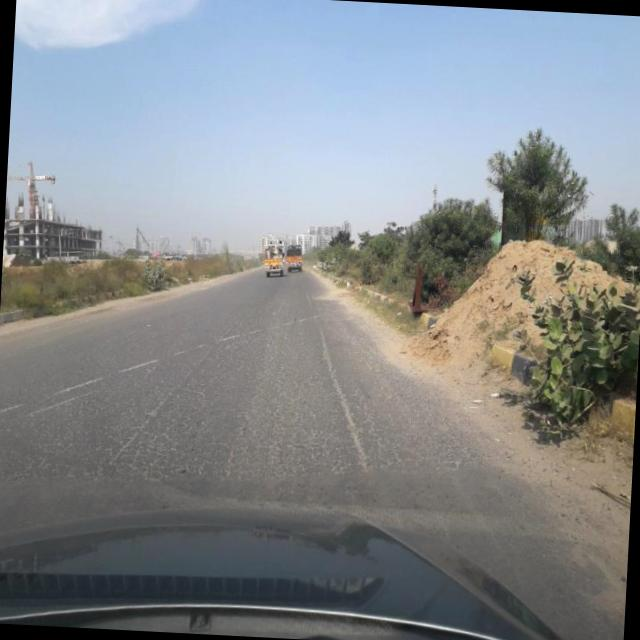crack: (16, 286, 428, 516), (299, 296, 377, 470)
